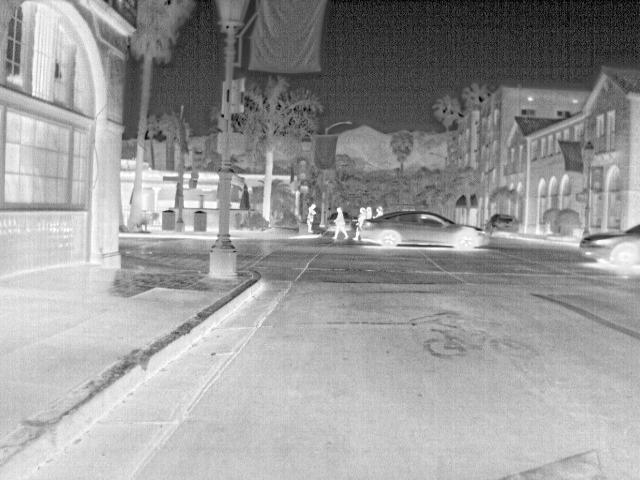car: (362, 210, 494, 251), (577, 220, 640, 266), (487, 214, 520, 238)
person: (350, 206, 368, 242), (331, 206, 348, 241), (305, 204, 320, 234), (372, 204, 388, 222)
